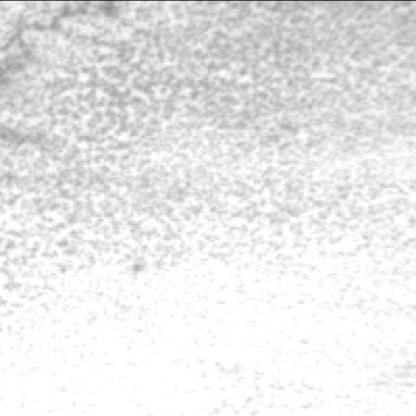pitted_surface: (0, 4, 412, 300)
